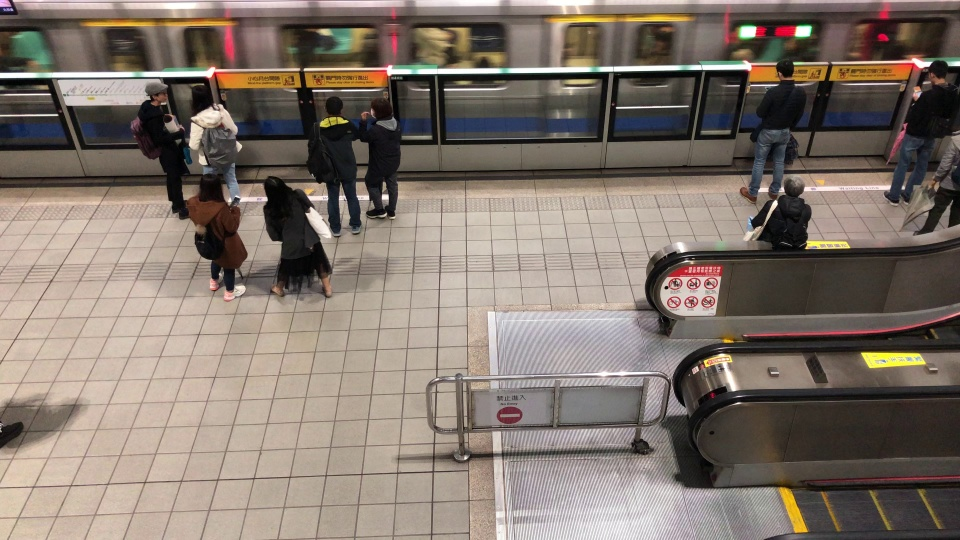person_head: (258, 176, 293, 205), (194, 175, 226, 204), (189, 85, 214, 110), (368, 97, 394, 121), (780, 174, 806, 198), (141, 81, 168, 104), (927, 61, 951, 86), (771, 60, 795, 82), (321, 95, 344, 117)
person_vbox: (877, 59, 960, 208), (120, 80, 198, 222), (253, 176, 337, 299), (738, 60, 808, 203), (178, 174, 251, 301), (302, 95, 365, 238), (891, 119, 960, 237), (185, 84, 247, 208), (357, 96, 402, 222), (742, 173, 812, 251)
